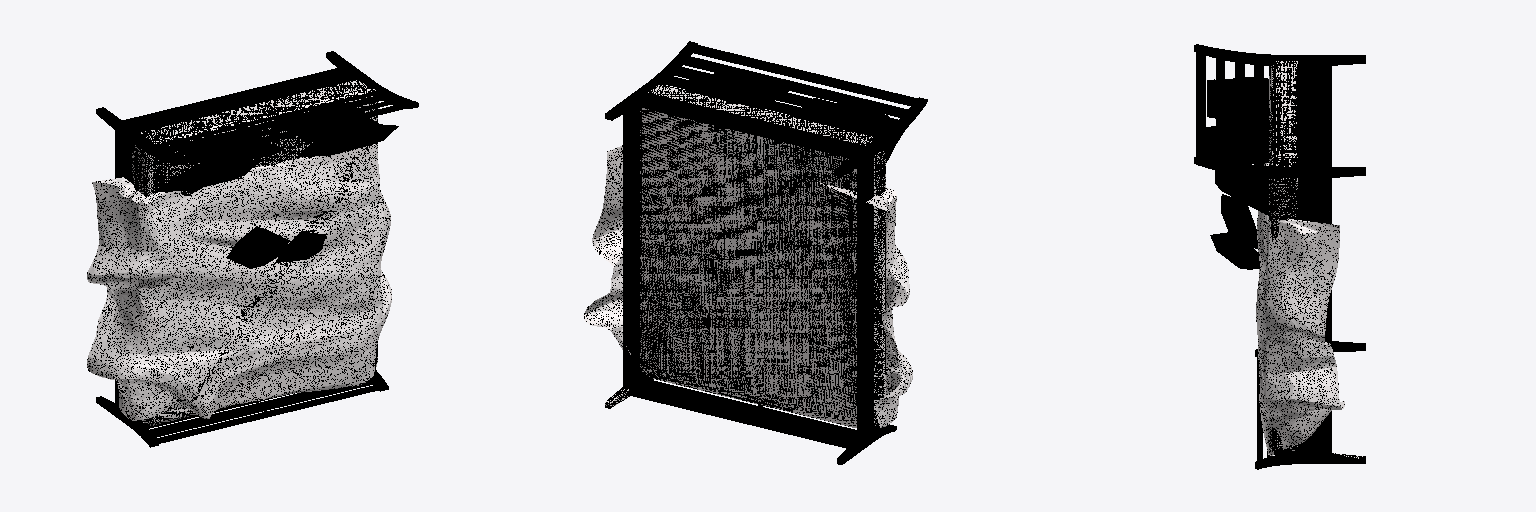
3 views of the same model, side by side, from view 1: azimuth 30°, elevation 25°; view 2: azimuth 150°, elevation 25°; view 3: azimuth 270°, elevation 25° (orthographic).
Visible parts, largest first — view 1: e71d47235a7988dfe7e684d25d4dcaf0; view 2: e71d47235a7988dfe7e684d25d4dcaf0; view 3: e71d47235a7988dfe7e684d25d4dcaf0.
Part boxes in pixels (x1,y1,x2,y2): e71d47235a7988dfe7e684d25d4dcaf0: (87, 51, 418, 447); e71d47235a7988dfe7e684d25d4dcaf0: (583, 41, 927, 464); e71d47235a7988dfe7e684d25d4dcaf0: (1194, 44, 1365, 469).
Bounding box in the file's own units: 2.19 × 2.1 × 1.06.